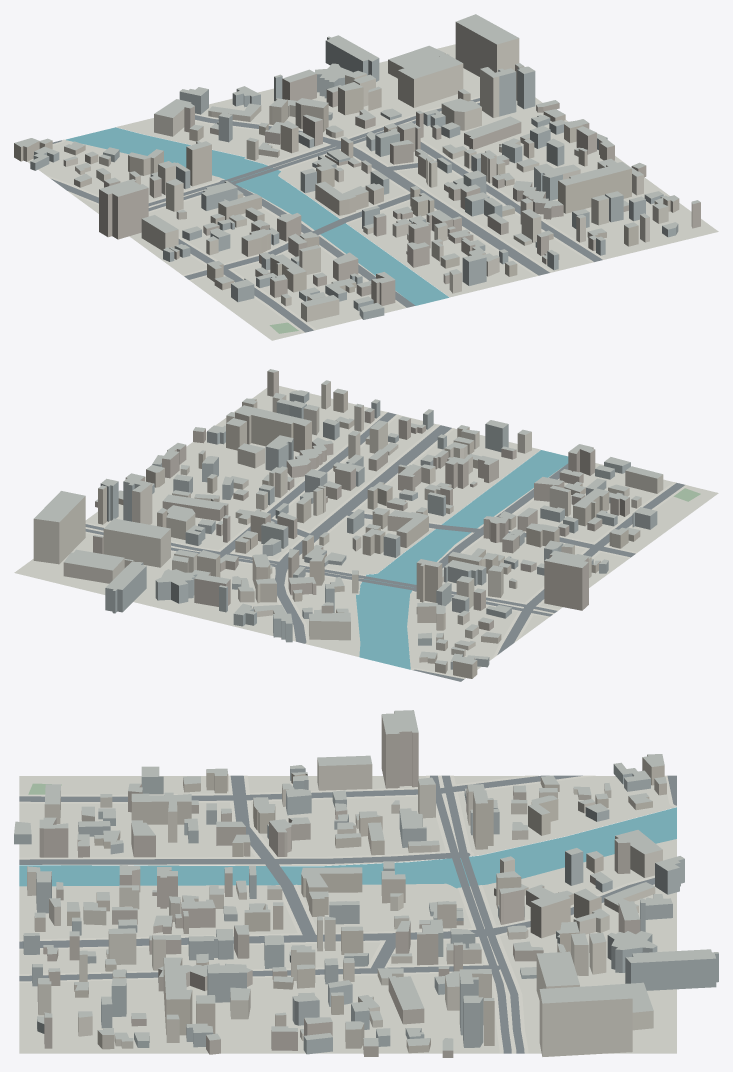
3 views of the same model, one above another, from view 1: azimuth 30°, elevation 25°; view 2: azimuth 150°, elevation 25°; view 3: azimuth 270°, elevation 25° (orthographic). The views are drawn at different scales.
Visible parts, largest first — view 1: city; view 2: city; view 3: city.
Boxes of the visible parts, x1,y1,x2,y2 form: city: [14, 14, 718, 340]; city: [14, 369, 718, 681]; city: [14, 710, 718, 1057].
Bounding box in the file's own units: 528 × 45.88 × 536.
